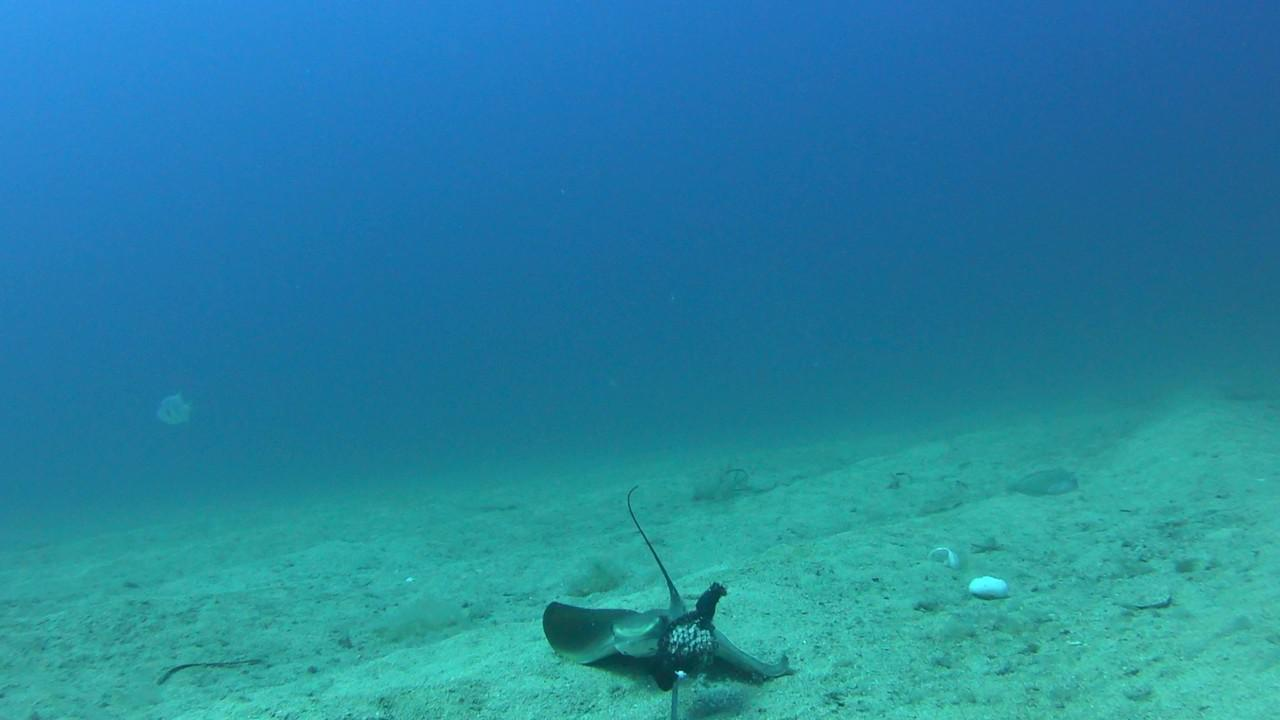balistes: (152, 388, 194, 429)
myliobatis: (541, 483, 801, 683)
raor: (1001, 466, 1083, 496)
